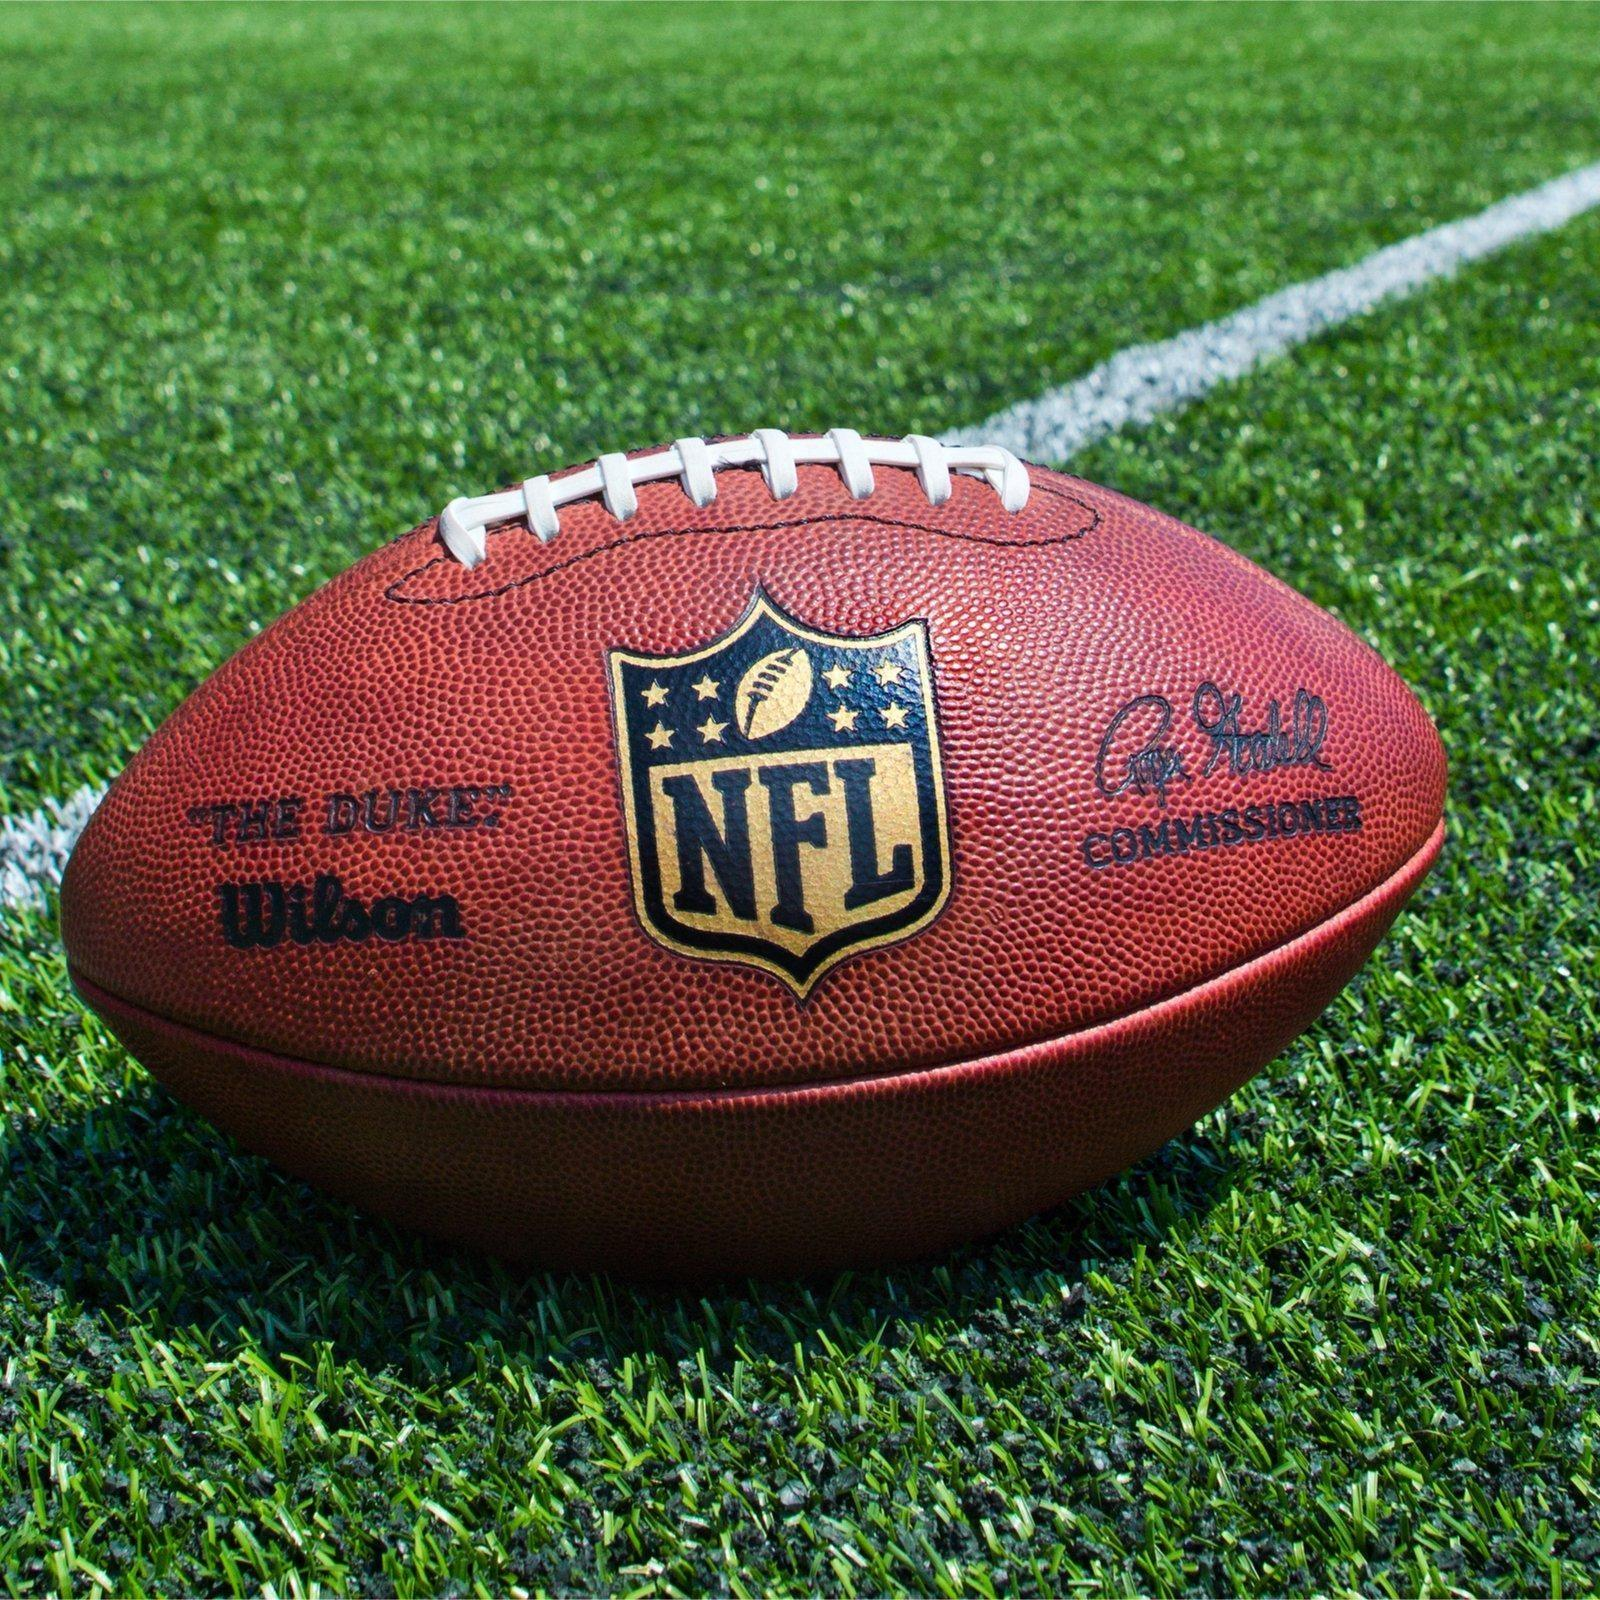Sports-Ball: (63, 431, 1443, 1275)
